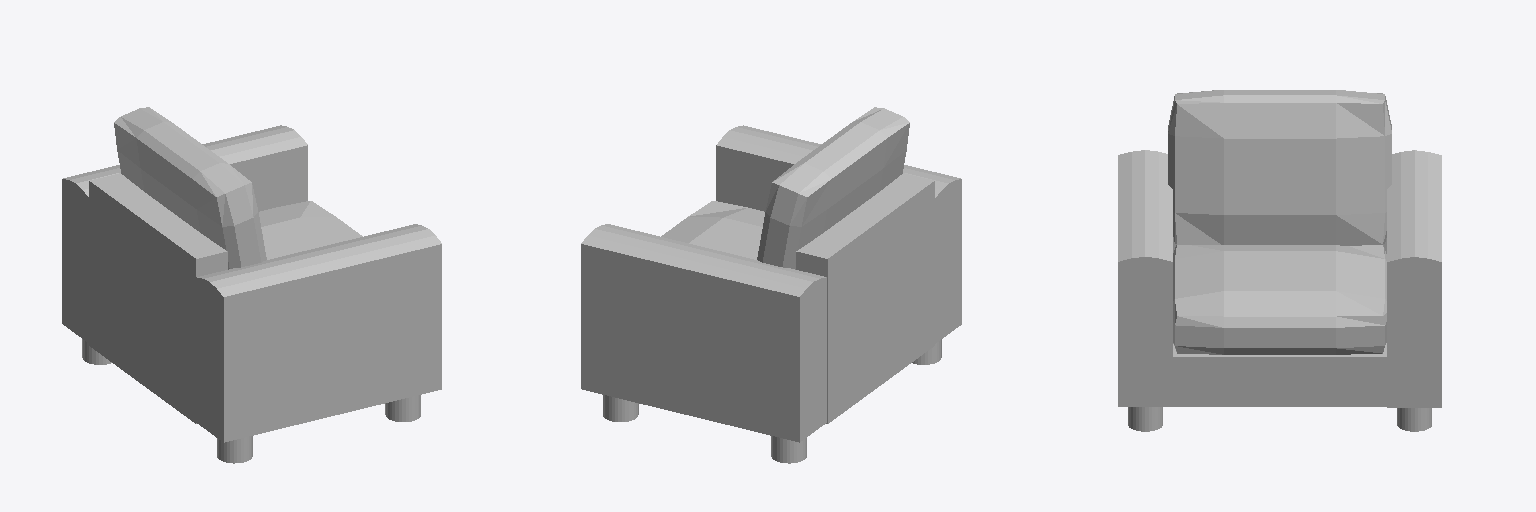
The model's file is simple_single_sofa_1.obj.
3 views of the same model, side by side, from view 1: azimuth 30°, elevation 25°; view 2: azimuth 150°, elevation 25°; view 3: azimuth 270°, elevation 25° (orthographic).
Parts seen in each view (by area): view 1: Cube.001, Cube.004, Cube.005, Cube.003, Cube.002, Cylinder.003, Cylinder; view 2: Cube.003, Cube.004, Cube.005, Cube.001, Cube.002, Cylinder.002, Cylinder.001; view 3: Cube.005, Cube.002, Cube.003, Cube.001, Cube, Cylinder, Cylinder.001.
Boxes of the visible parts, <box> form: Cube.001: <box>196,224,441,442</box>; Cube.004: <box>89,173,227,423</box>; Cube.005: <box>114,107,266,269</box>; Cube.003: <box>62,125,307,342</box>; Cube.002: <box>259,201,362,259</box>; Cylinder.003: <box>217,436,252,463</box>; Cylinder: <box>385,395,420,421</box>; Cube.003: <box>581,224,826,442</box>; Cube.004: <box>796,173,934,423</box>; Cube.005: <box>757,107,909,269</box>; Cube.001: <box>716,125,961,343</box>; Cube.002: <box>661,201,764,259</box>; Cylinder.002: <box>771,436,806,463</box>; Cylinder.001: <box>603,395,638,421</box>; Cube.005: <box>1168,90,1391,245</box>; Cube.002: <box>1173,245,1386,354</box>; Cube.003: <box>1387,150,1441,407</box>; Cube.001: <box>1118,150,1172,406</box>; Cube: <box>1173,343,1386,406</box>; Cylinder: <box>1128,407,1162,431</box>; Cylinder.001: <box>1397,408,1431,431</box>.
Bounding box in the file's own units: 2.44 × 2.66 × 3.02.